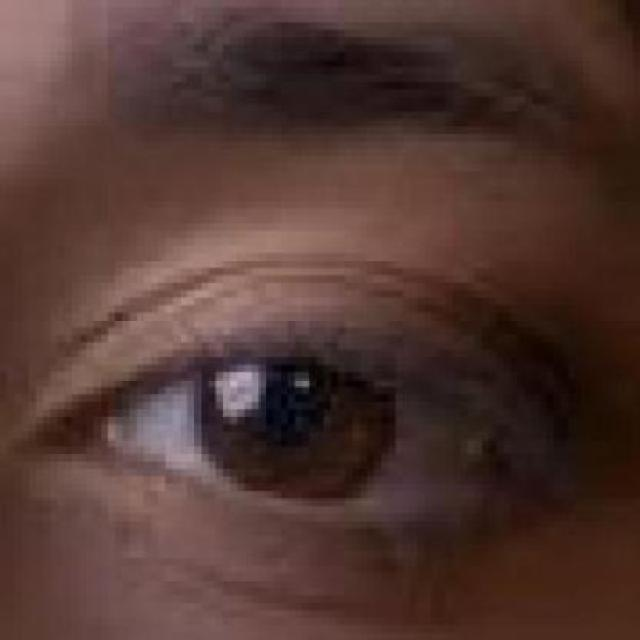awake: (43, 253, 489, 536)
